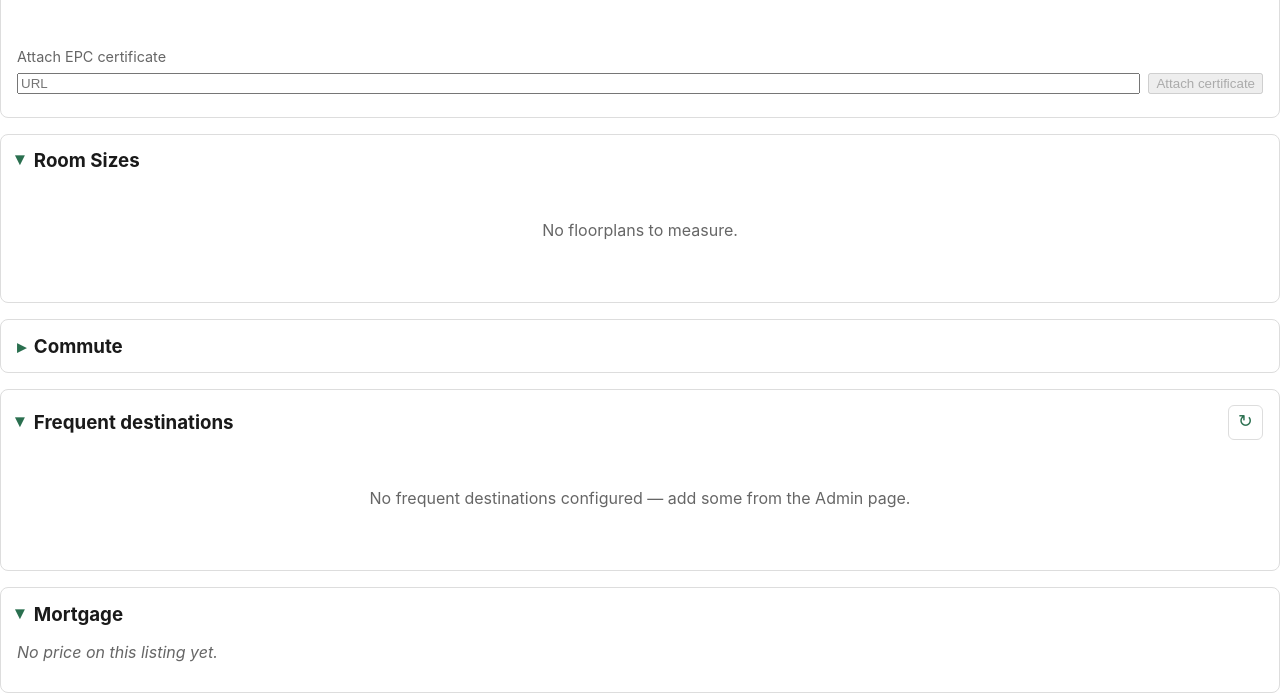
Test: ListingDetail section collapsing › clicking a section header toggles it open
(page scrolled)
Click the button "▸ Commute" at (70, 346), box [17,335,123,358]
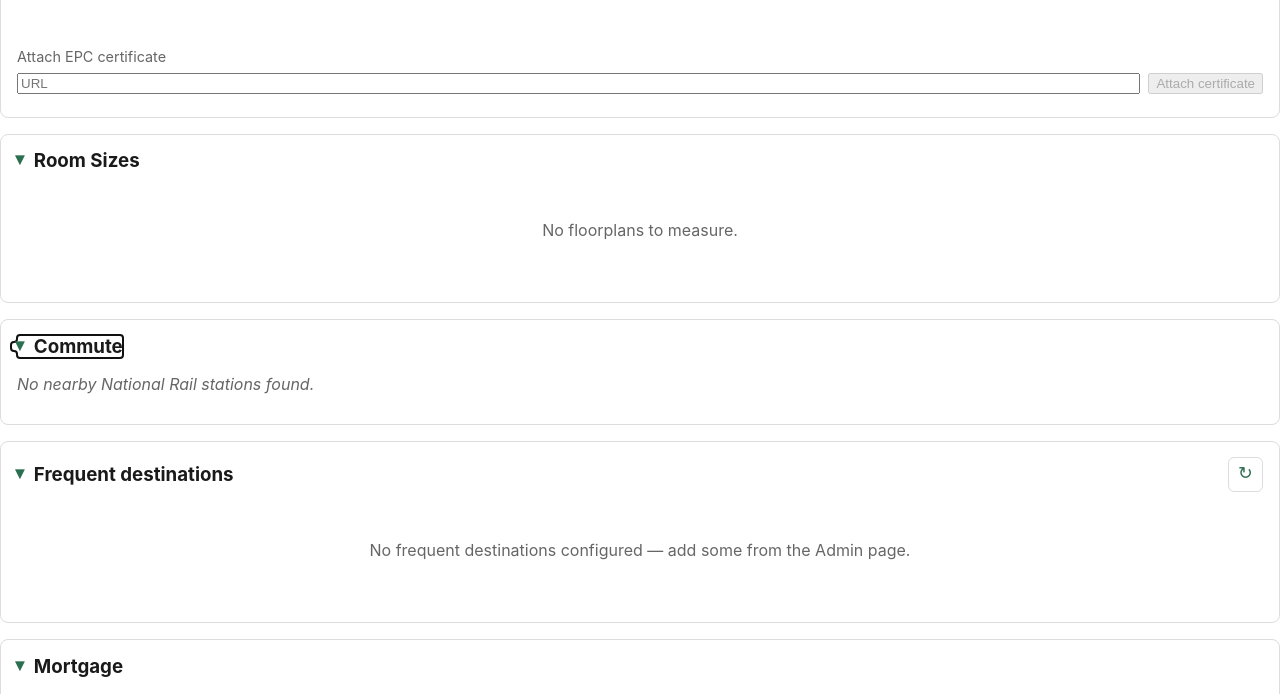
Check: the button "▸ Commute" is expanded, box [17,335,123,358]
